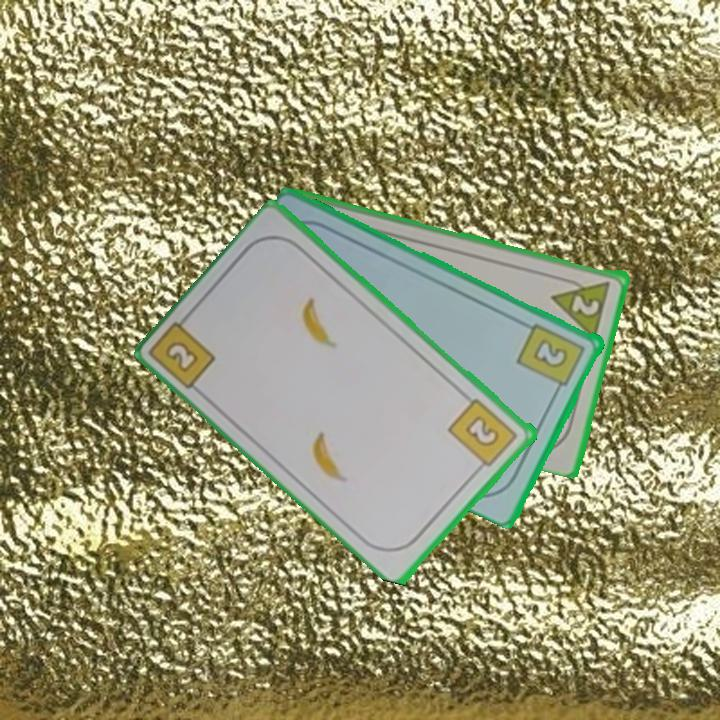2b: (445, 394, 521, 475), (149, 309, 220, 392), (514, 319, 589, 397)
2p: (549, 271, 614, 339)
